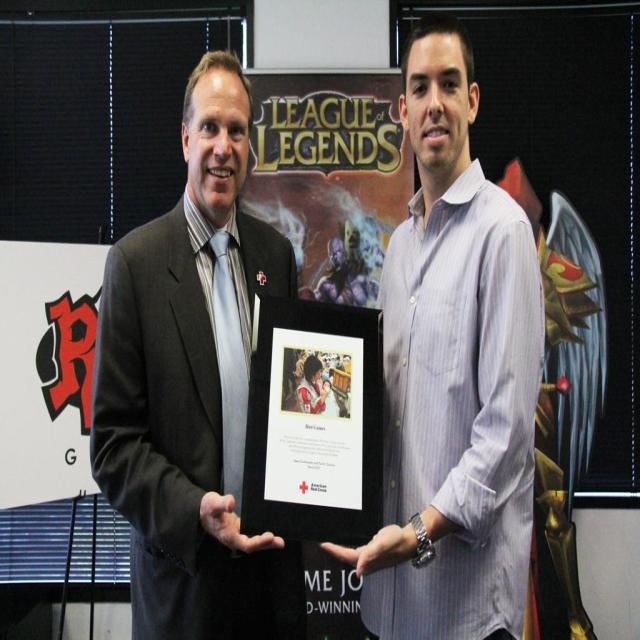Face: (186, 60, 274, 218), (399, 47, 483, 188)
